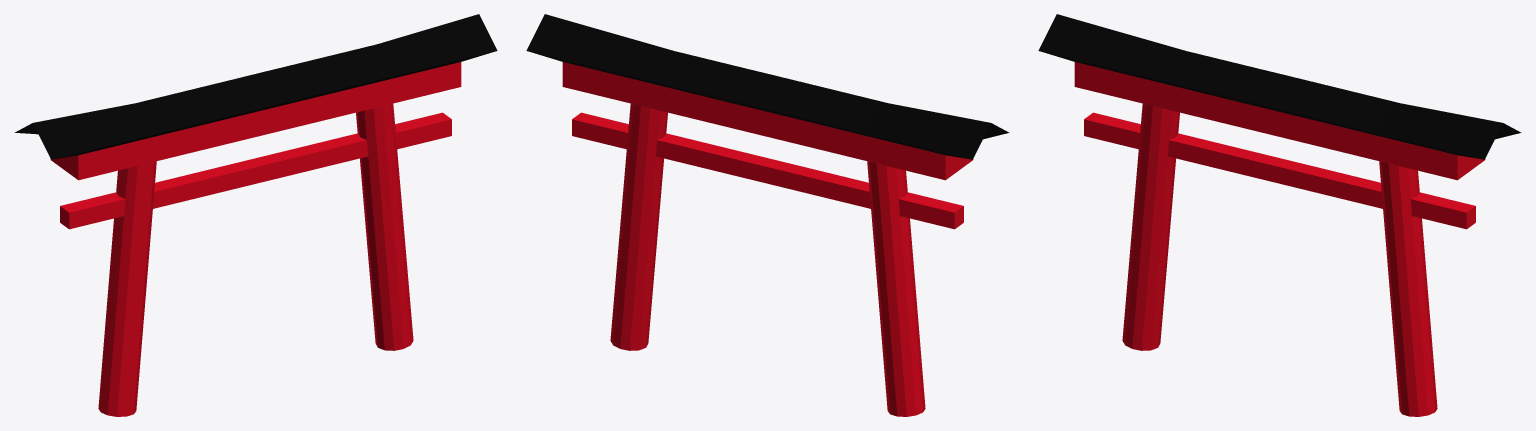
The model's file is Shrine.fbx.
3 views of the same model, side by side, from view 1: azimuth 30°, elevation 25°; view 2: azimuth 150°, elevation 25°; view 3: azimuth 330°, elevation 25° (orthographic).
Parts seen in each view (by area): view 1: ShrineGate; view 2: ShrineGate; view 3: ShrineGate.
Part boxes in pixels (x1=…): ShrineGate: x1=15, y1=14, x2=497, y2=416; ShrineGate: x1=526, y1=14, x2=1009, y2=416; ShrineGate: x1=1038, y1=14, x2=1521, y2=416.
Size of the model in its own units: 7 by 4.63 by 1.
